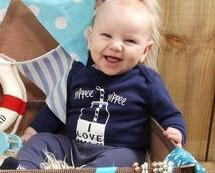Healthy: (85, 0, 156, 84)
